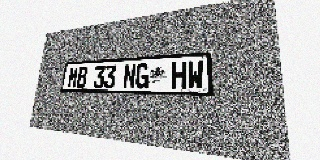3: (103, 65, 116, 88), (93, 65, 105, 88)
B: (76, 66, 88, 88)
G: (135, 63, 149, 89)
H: (171, 61, 187, 89)
M: (67, 67, 79, 88)
N: (122, 64, 136, 88)
W: (187, 60, 204, 89)
